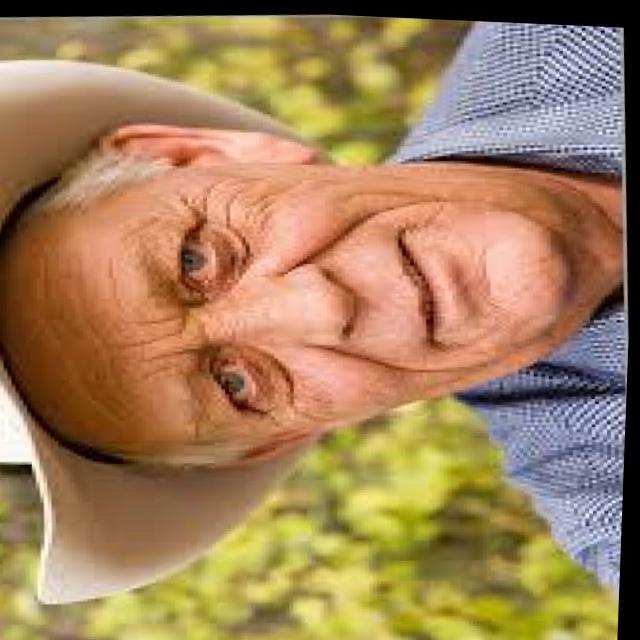Wrinkles: (276, 186, 493, 273), (40, 246, 122, 422), (76, 248, 142, 406), (109, 254, 193, 346), (308, 342, 495, 369), (225, 174, 267, 275), (175, 171, 240, 215), (138, 343, 205, 357)
